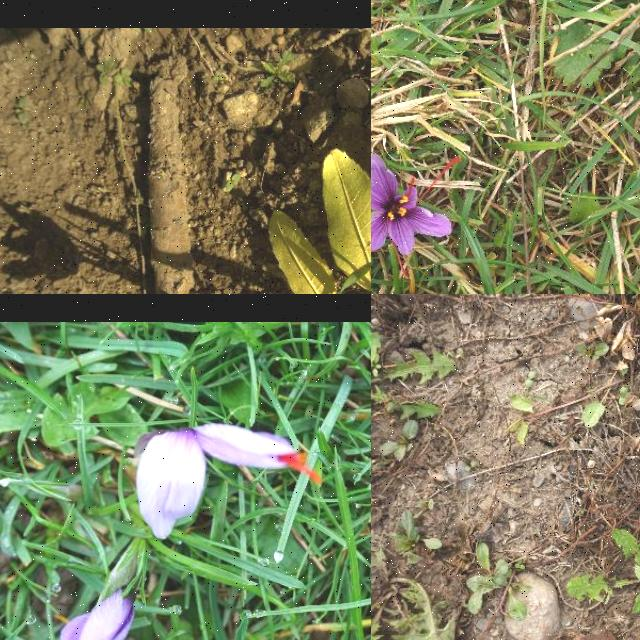flower: (136, 424, 322, 538), (371, 152, 462, 280), (54, 586, 136, 640)
